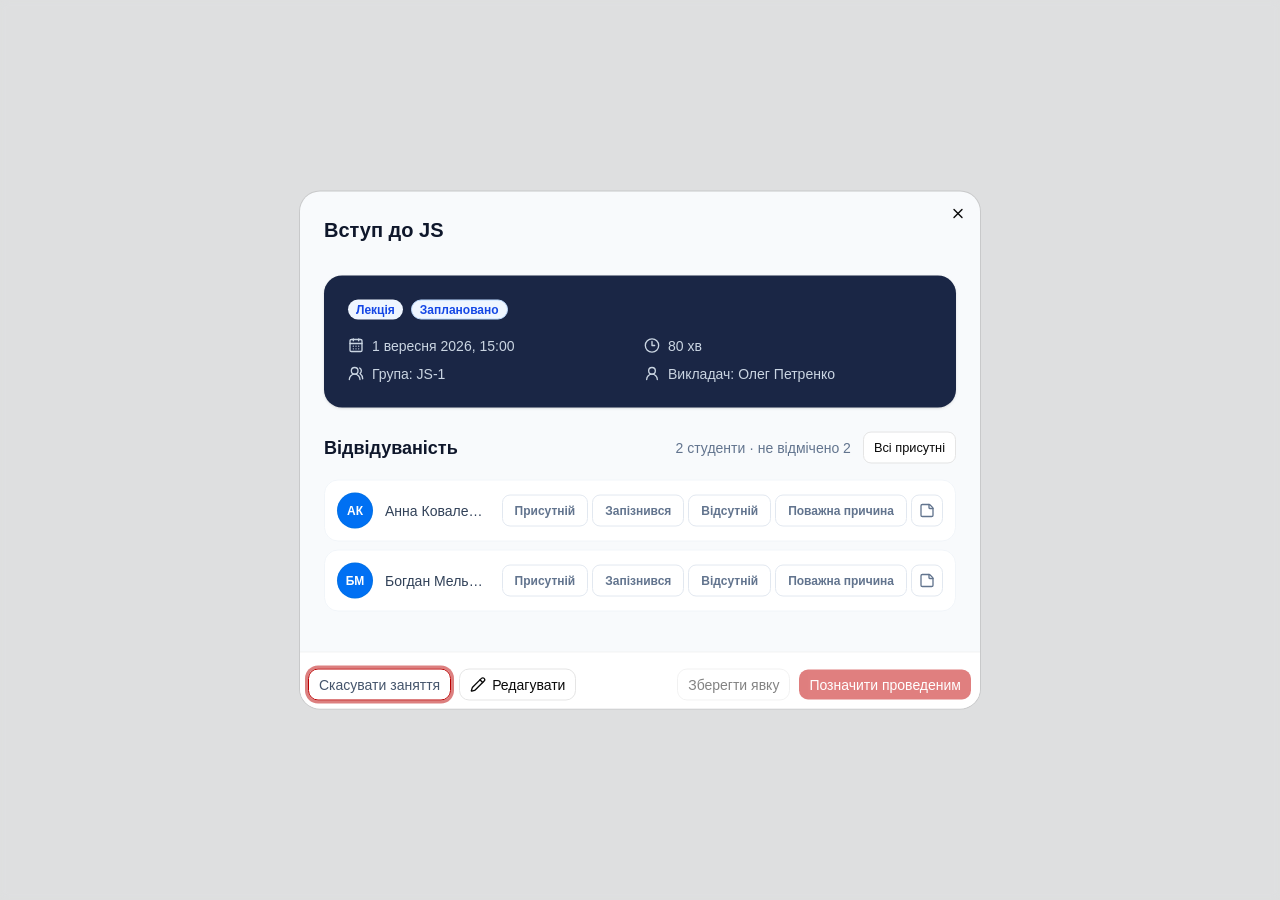
Test case: LessonDetailsModal — відвідуваність › без збереженої явки нікого не відмічає, а «Всі присутні» відмічає лише невідмічених
expect the element named "Статус: Анна Коваленко" is shown: met, box [502, 494, 943, 526]
expect the text "2 студенти · не відмічено 2" is shown: met, box [676, 438, 851, 458]
Click the button "Відсутній" in the row of "Коваленко" at point(730, 510), box [688, 494, 771, 526]
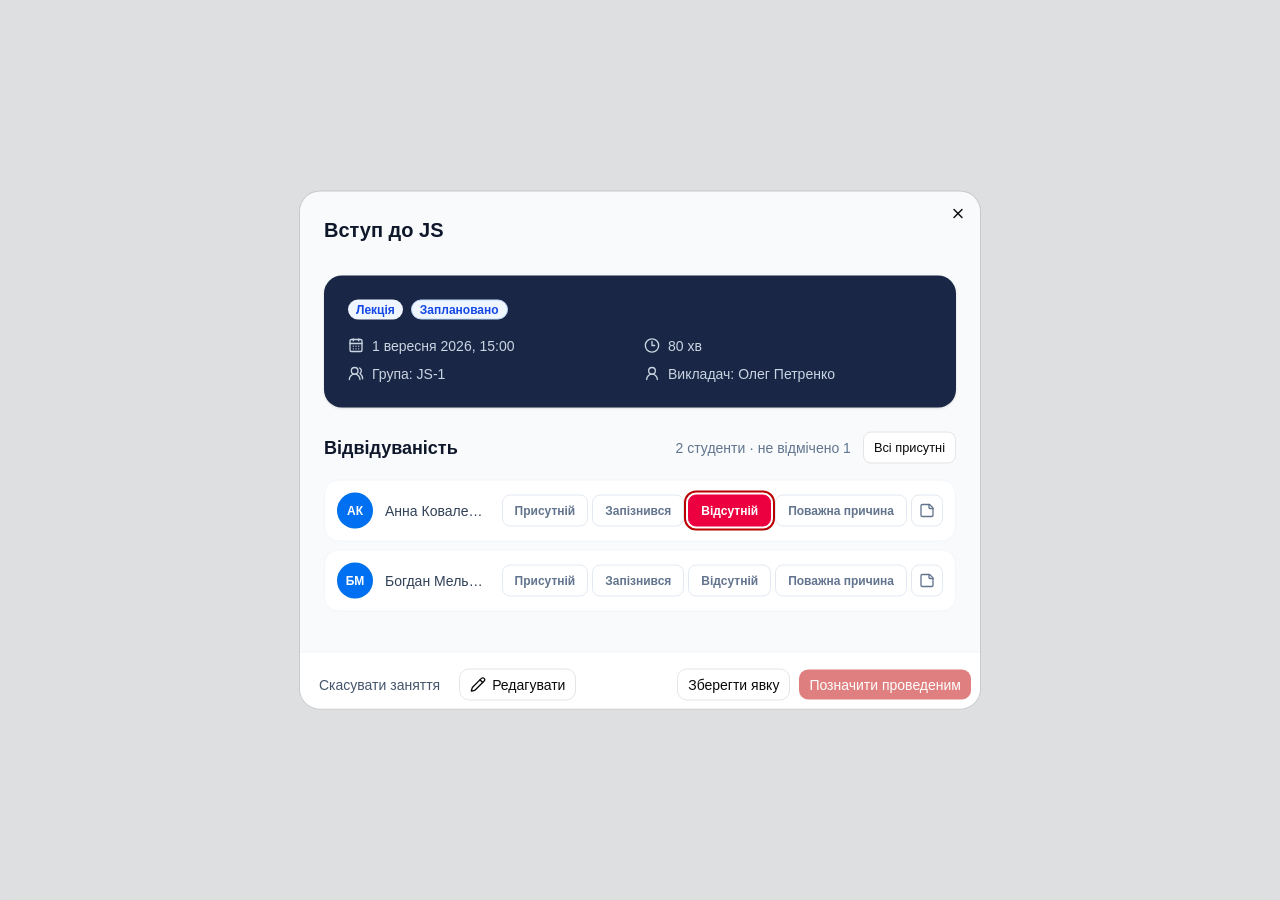
Click the button "Всі присутні" at point(909, 448), box [863, 432, 956, 464]
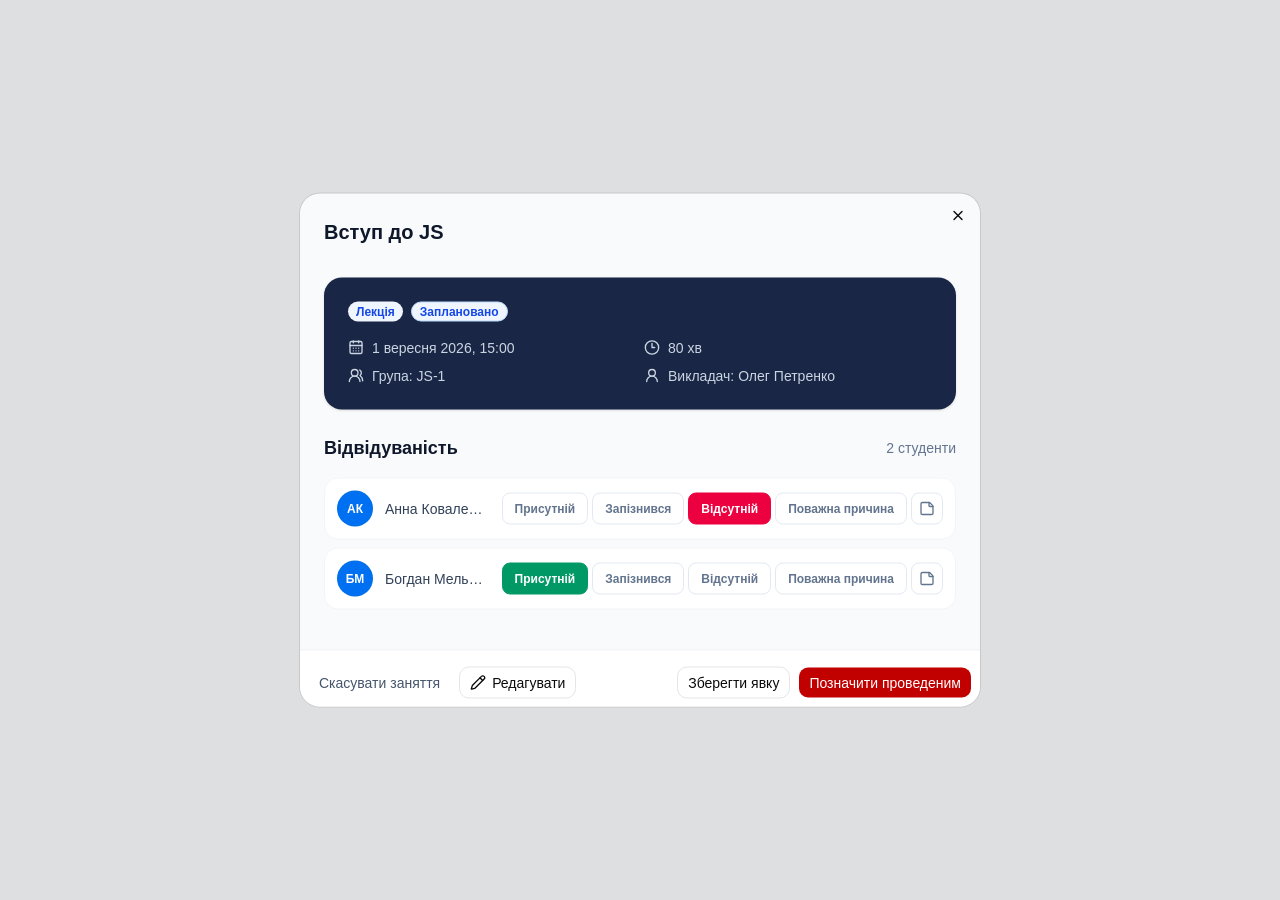
expect the button "Відсутній" in the row of "Коваленко" is shown: met, box [688, 492, 771, 524]
expect the button "Всі присутні" is gone: met
expect the button "Позначити проведеним" is enabled: met, box [798, 666, 972, 698]
